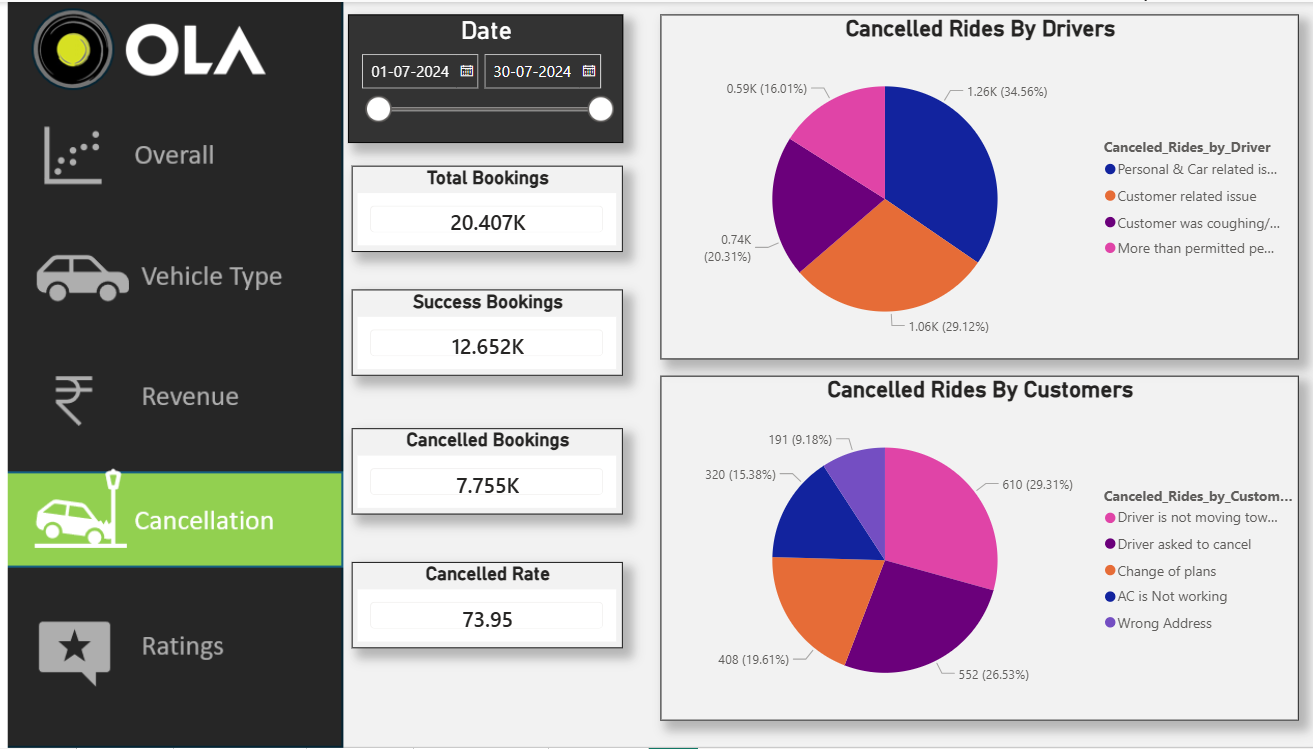

What the dashboard file says about the page in this screenshot:
{"tool":"powerbi","page":{"name":"Cancellation","canvas":[1280,720],"ordinal":3},"visuals":[{"type":"actionButton","box":[0,214.1,323.8,96.1],"z":0},{"type":"actionButton","box":[0,338.9,323.8,96.1],"z":1000},{"type":"actionButton","box":[0,580.4,323.8,96.1],"z":2000},{"type":"actionButton","box":[0,104.3,323.8,96.1],"z":3000},{"type":"pieChart","title":"Cancelled Rides By Customers","fields":{"Y":["CountNonNull(July.Canceled_Rides_by_Customer)"],"Category":["July.Canceled_Rides_by_Customer"]},"box":[639.4,360.6,616.1,332.8],"z":4000},{"type":"pieChart","title":"Cancelled Rides By Drivers","fields":{"Y":["CountNonNull(July.Canceled_Rides_by_Driver)"],"Category":["July.Canceled_Rides_by_Driver"]},"box":[639.4,11.7,616.1,332.8],"z":5000},{"type":"slicer","title":"Date","fields":{"Values":["July.Date"]},"box":[337.2,11.7,265.7,124.1],"z":6000},{"type":"cardVisual","title":"Success Bookings","fields":{"Data":["Count(July.Booking_ID)"]},"box":[341.6,277.4,261.3,83.2],"z":7000},{"type":"cardVisual","title":"Cancelled Bookings","fields":{"Data":["Count(July.Booking_ID)"]},"box":[341.6,411.7,261.3,83.2],"z":8000},{"type":"cardVisual","title":"Total Bookings","fields":{"Data":["Count(July.Booking_ID)"]},"box":[341.6,157.7,261.3,83.2],"z":9000},{"type":"cardVisual","title":"Cancelled Rate","fields":{"Data":["July.CancelledPercentage"]},"box":[341.6,540.1,261.3,83.2],"z":10000}]}

Visuals, with their boxes in screenshot pixels (x1, y1, x2, y2), scaled from the page's 1280x720 canvas onto the 1313x749 screenshot:
actionButton: region(0, 223, 332, 323)
actionButton: region(0, 353, 332, 453)
actionButton: region(0, 604, 332, 704)
actionButton: region(0, 109, 332, 208)
"Cancelled Rides By Customers" pieChart: region(656, 375, 1288, 721)
"Cancelled Rides By Drivers" pieChart: region(656, 12, 1288, 358)
"Date" slicer: region(346, 12, 618, 141)
"Success Bookings" cardVisual: region(350, 289, 618, 375)
"Cancelled Bookings" cardVisual: region(350, 428, 618, 515)
"Total Bookings" cardVisual: region(350, 164, 618, 251)
"Cancelled Rate" cardVisual: region(350, 562, 618, 648)
